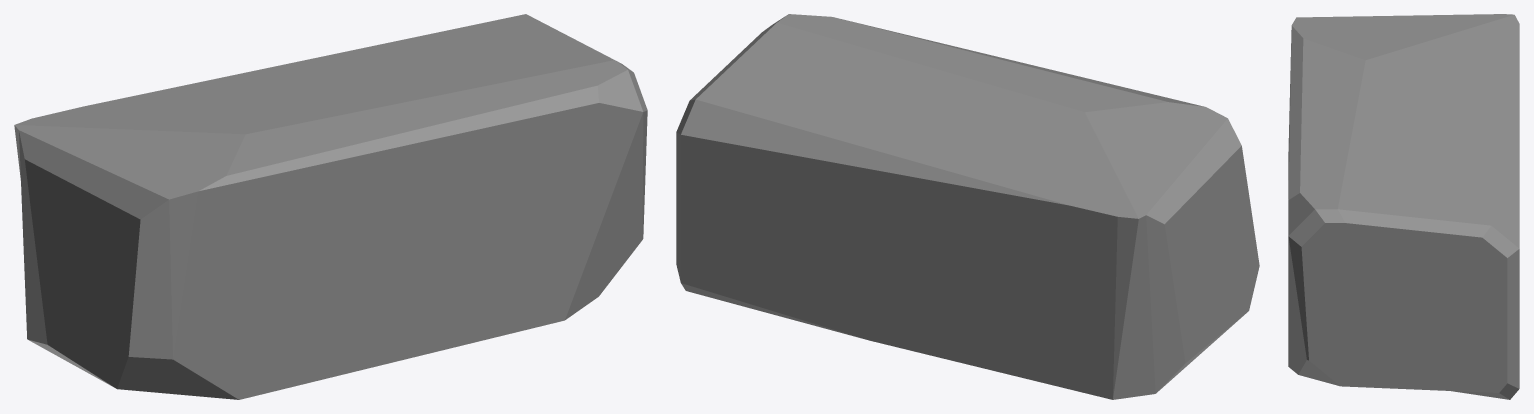
The model's file is Rock_5.fbx.
3 renders of one model, left to right at view 1: azimuth 30°, elevation 25°; view 2: azimuth 150°, elevation 25°; view 3: azimuth 270°, elevation 25°, orthographic. The views are drawn at different scales.
Visible parts, largest first — view 1: Rock_5; view 2: Rock_5; view 3: Rock_5.
Part boxes in pixels (x1,y1,x2,y2): Rock_5: (14,14,647,399); Rock_5: (676,14,1259,399); Rock_5: (1288,14,1519,399).
Size of the model in its own units: 227 by 91.92 by 101.
